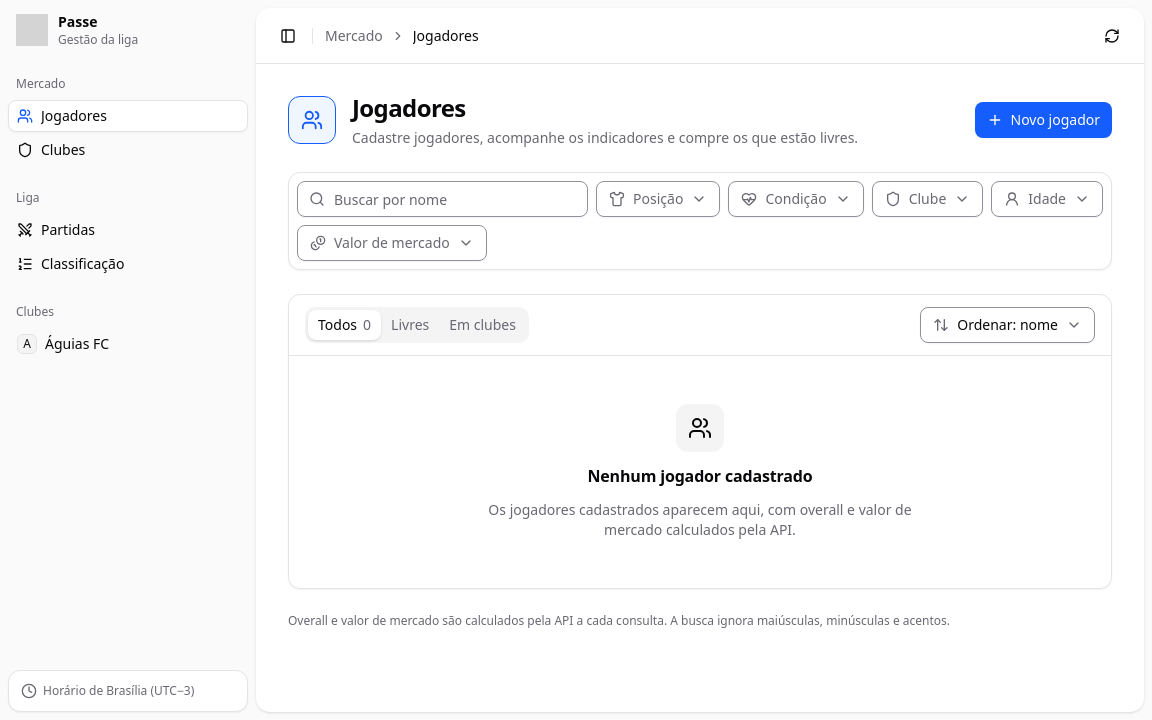
AppLayout › recarrega os dados pelo botão "Atualizar dados" sem recarregar a página
Expected: the link "A Águias FC" is shown, top-left (17, 334), bottom-right (109, 354)
Click the button named "Atualizar dados" at point(1112, 36), box top-left (1096, 20), bottom-right (1128, 52)
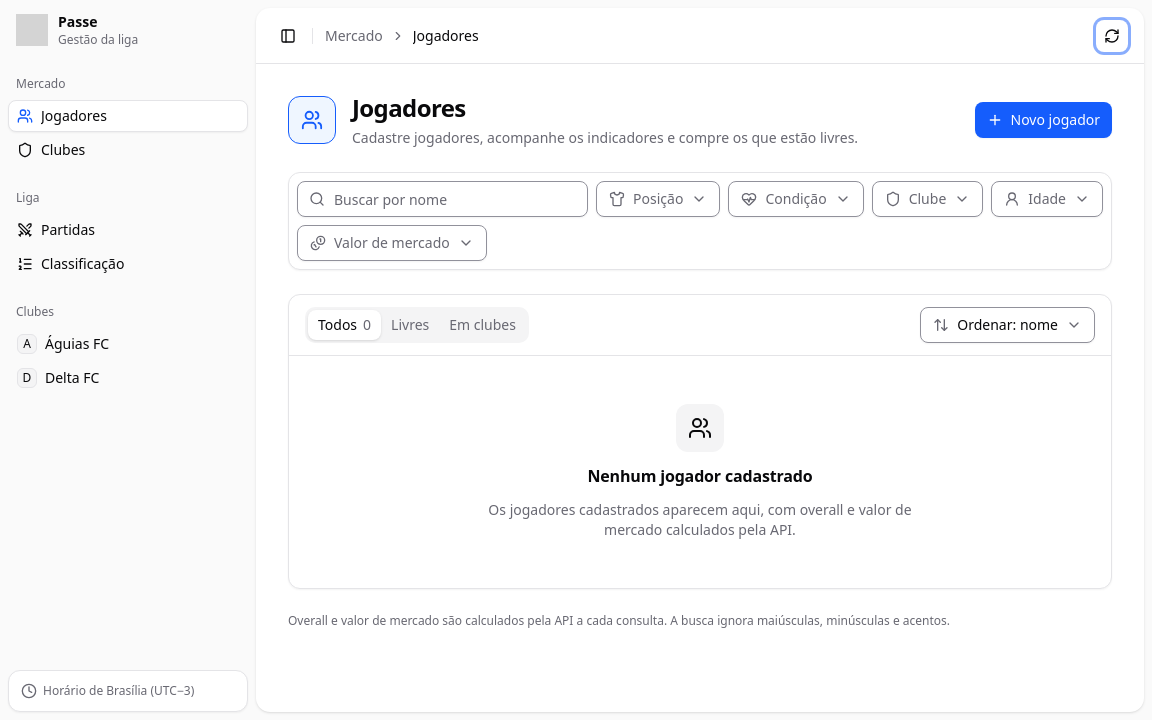
Expected: the link "D Delta FC" is shown, top-left (17, 368), bottom-right (99, 388)
